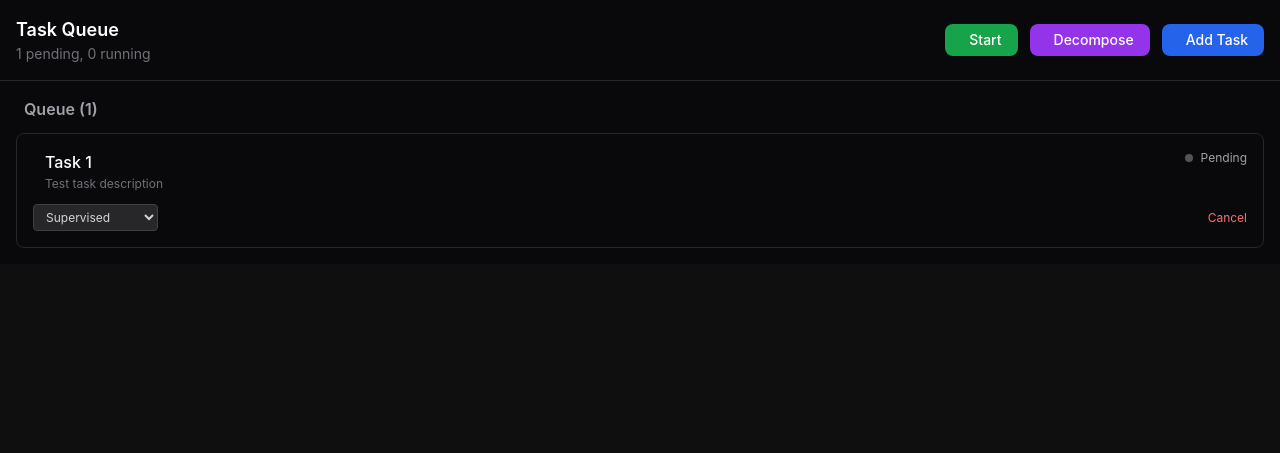
Test: TaskQueuePanel › Task Details Panel › should display task type in details panel
Click the heading "Task 1" at (68, 162), box [45,152,92,172]
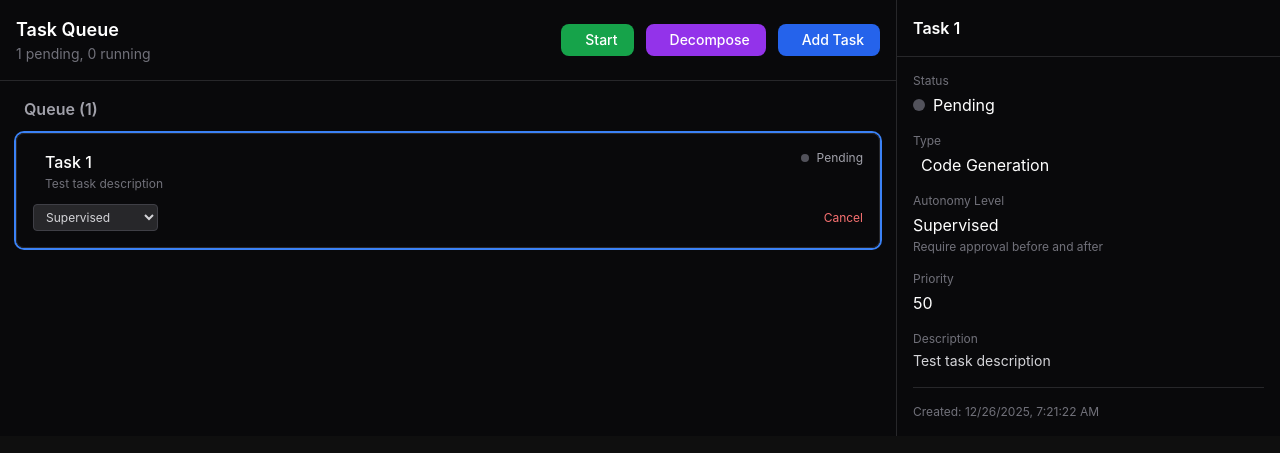
Check: the text "Type" is shown, box [913,133,941,148]
